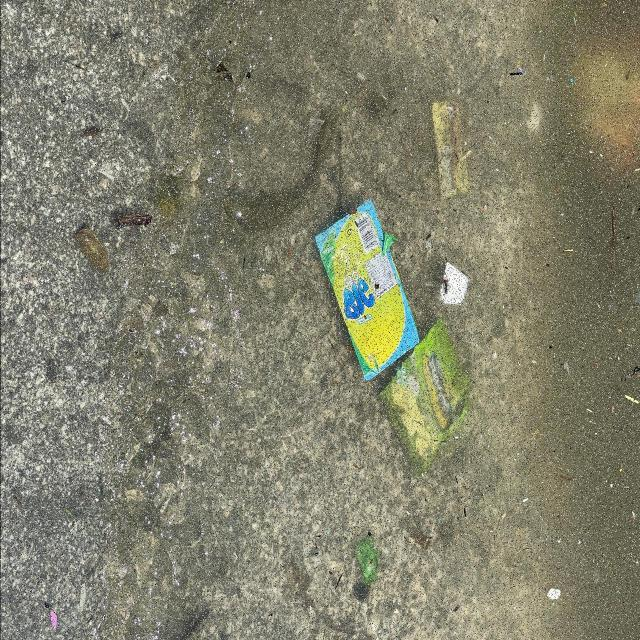plastic_waste: (314, 200, 418, 383), (379, 319, 475, 478), (356, 532, 380, 586)
